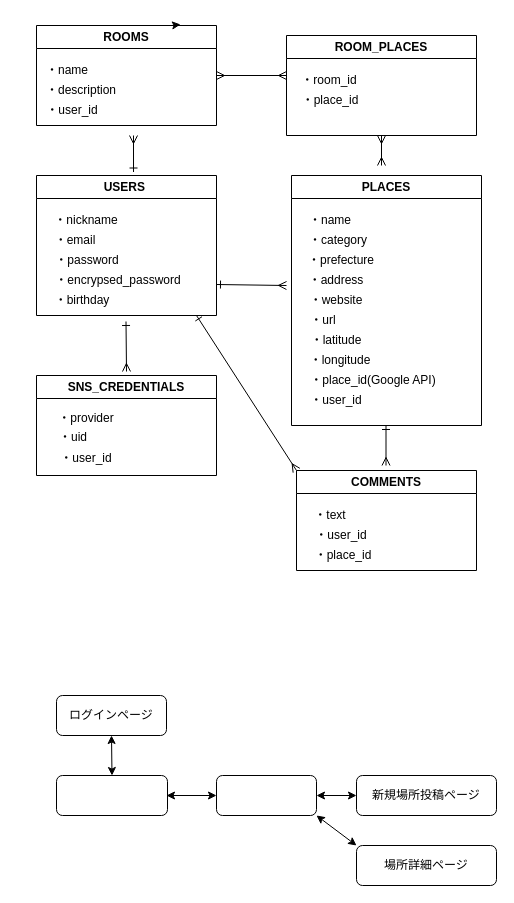
Some shapes in this 514 by 903 pixel diagram are drawn without their labels. Each missing label, with the centre of its shape:
"TOP ルーム一覧ページ" belongs at (x=112, y=795).
"場所一覧ページ" belongs at (x=266, y=795).
